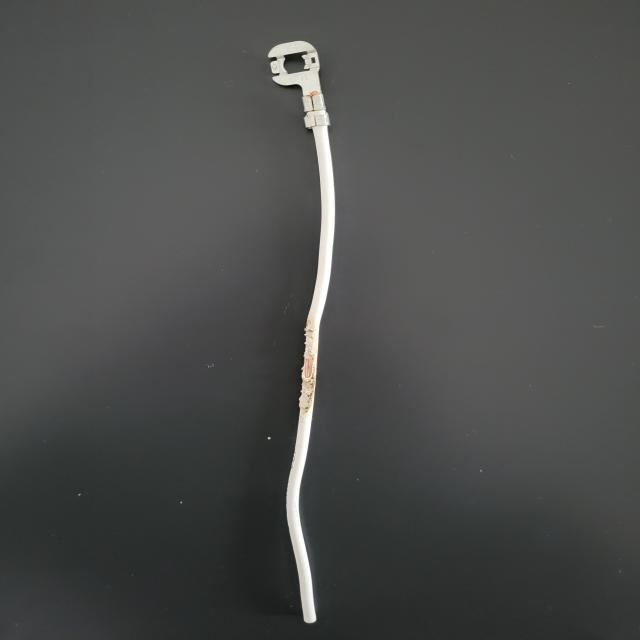defect: (262, 299, 371, 442)
